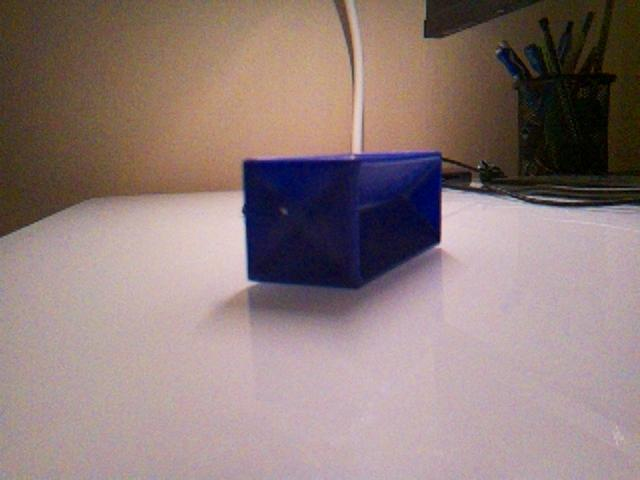blue: (240, 149, 444, 290)
